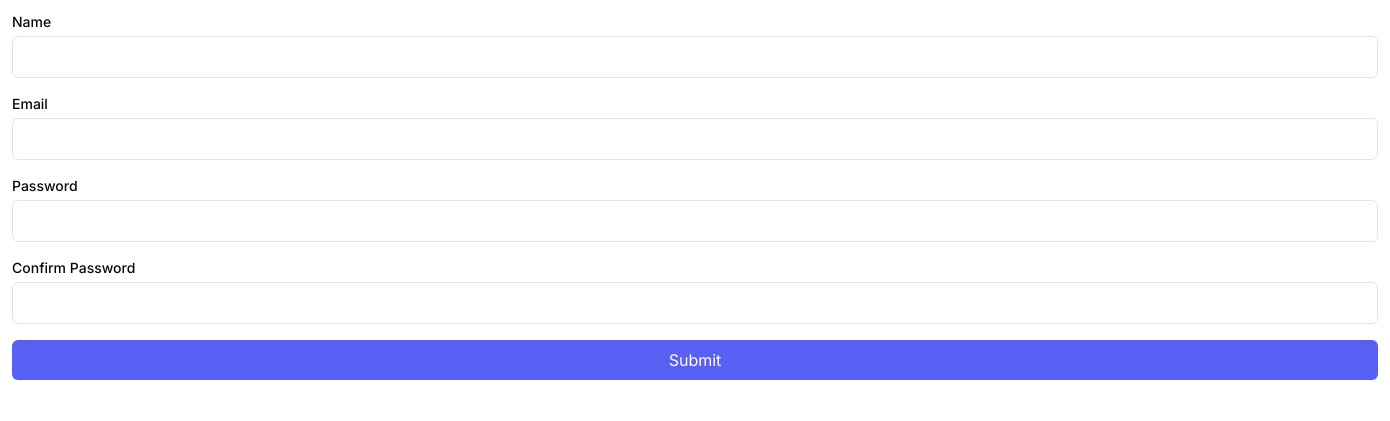
Test: ExampleForm › should show error when passwords do not match
Type "John Doe" into the field labelled "Name" at (695, 57), box [12,36,1378,78]
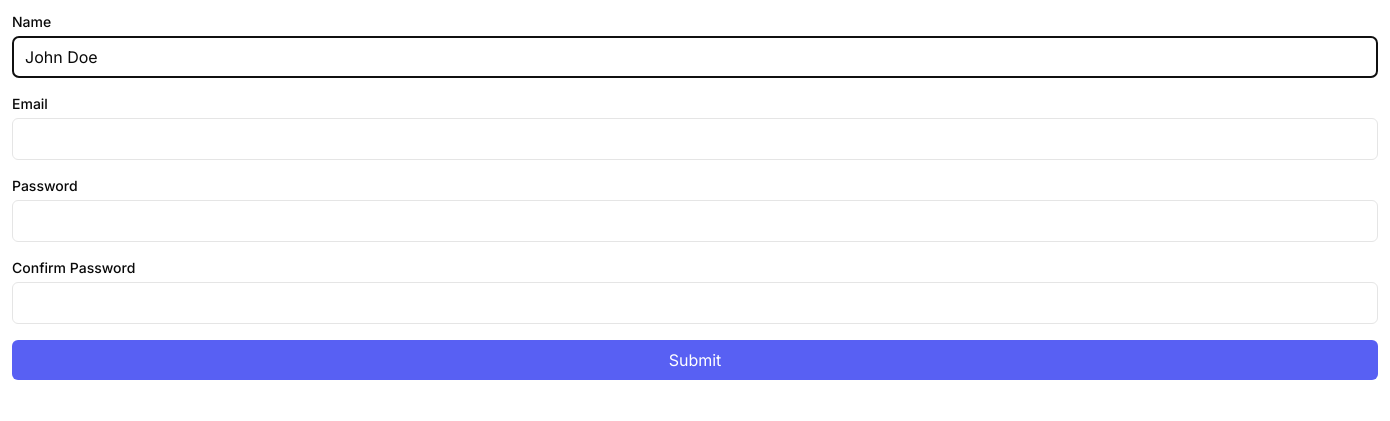
Type "john@example.com" into the field labelled "Email" at (695, 139), box [12,118,1378,160]
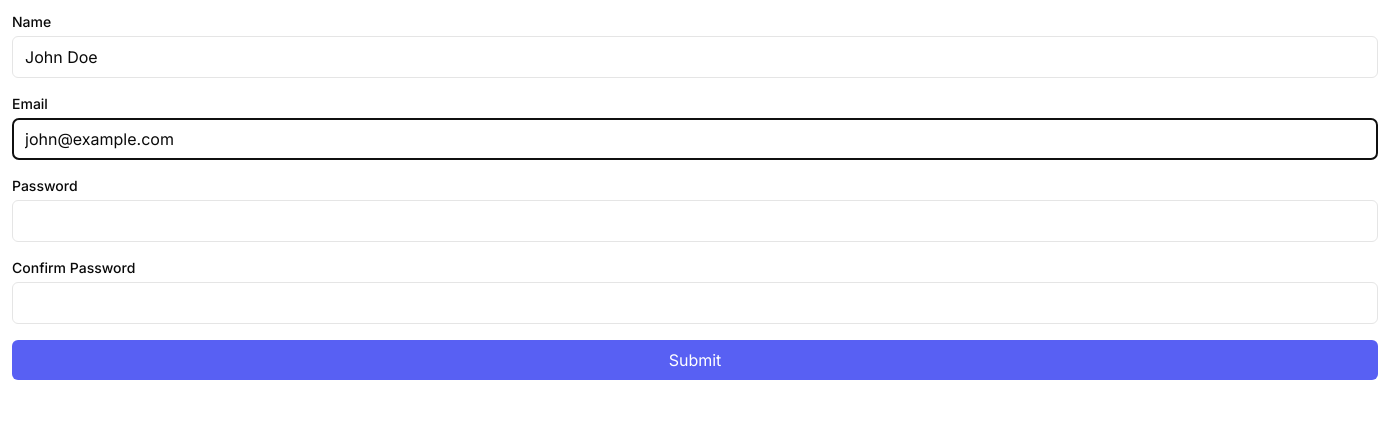
Type "password123" into the password field labelled "Password" at (695, 221), box [12,200,1378,242]
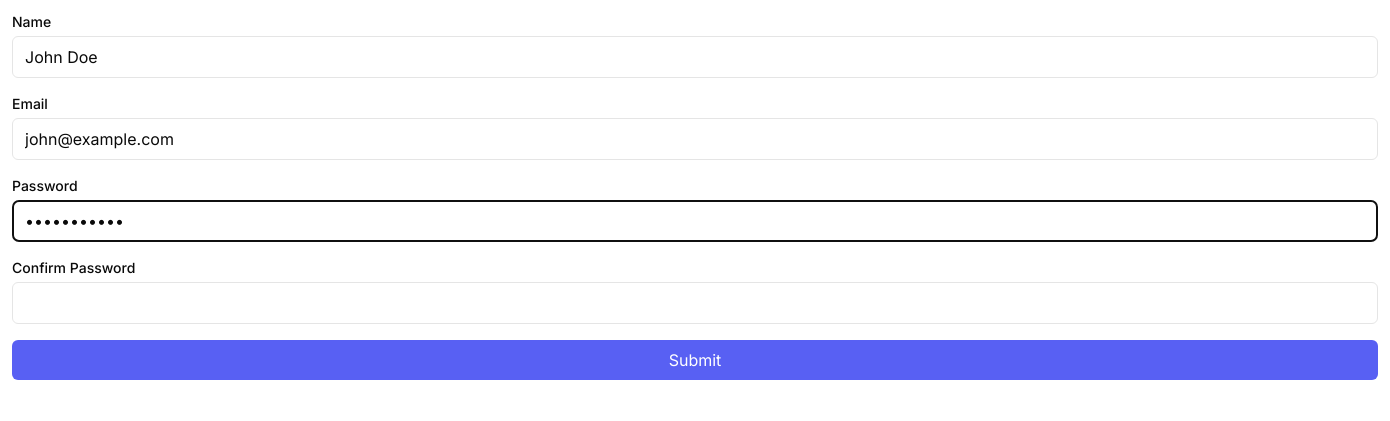
Type "password456" into the password field labelled "Confirm Password" at (695, 303), box [12,282,1378,324]
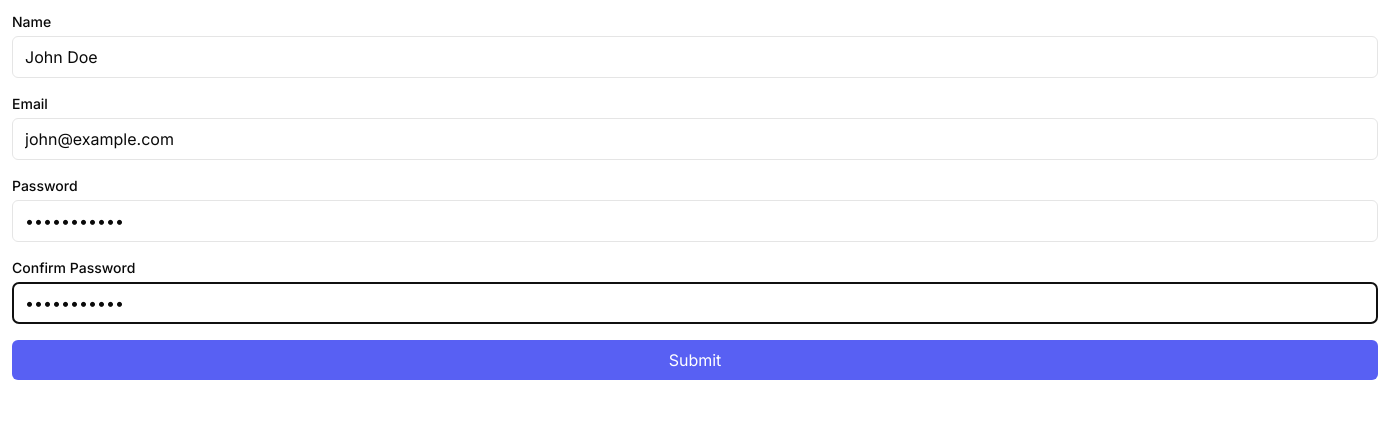
Click the button "Submit" at (695, 360), box [12,340,1378,380]
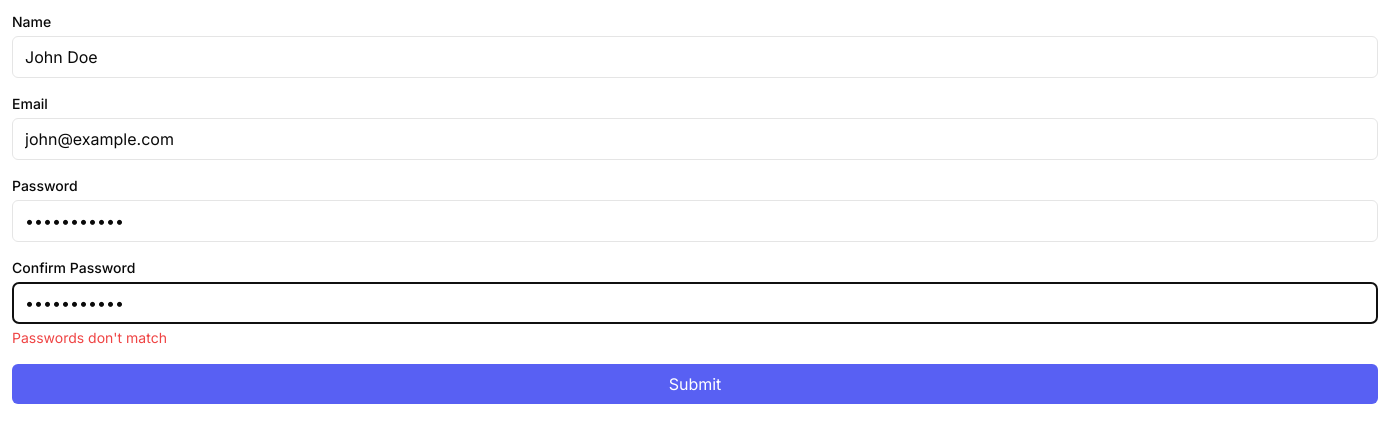
Now the text "Passwords don't match" is shown, box [12,329,167,346]
